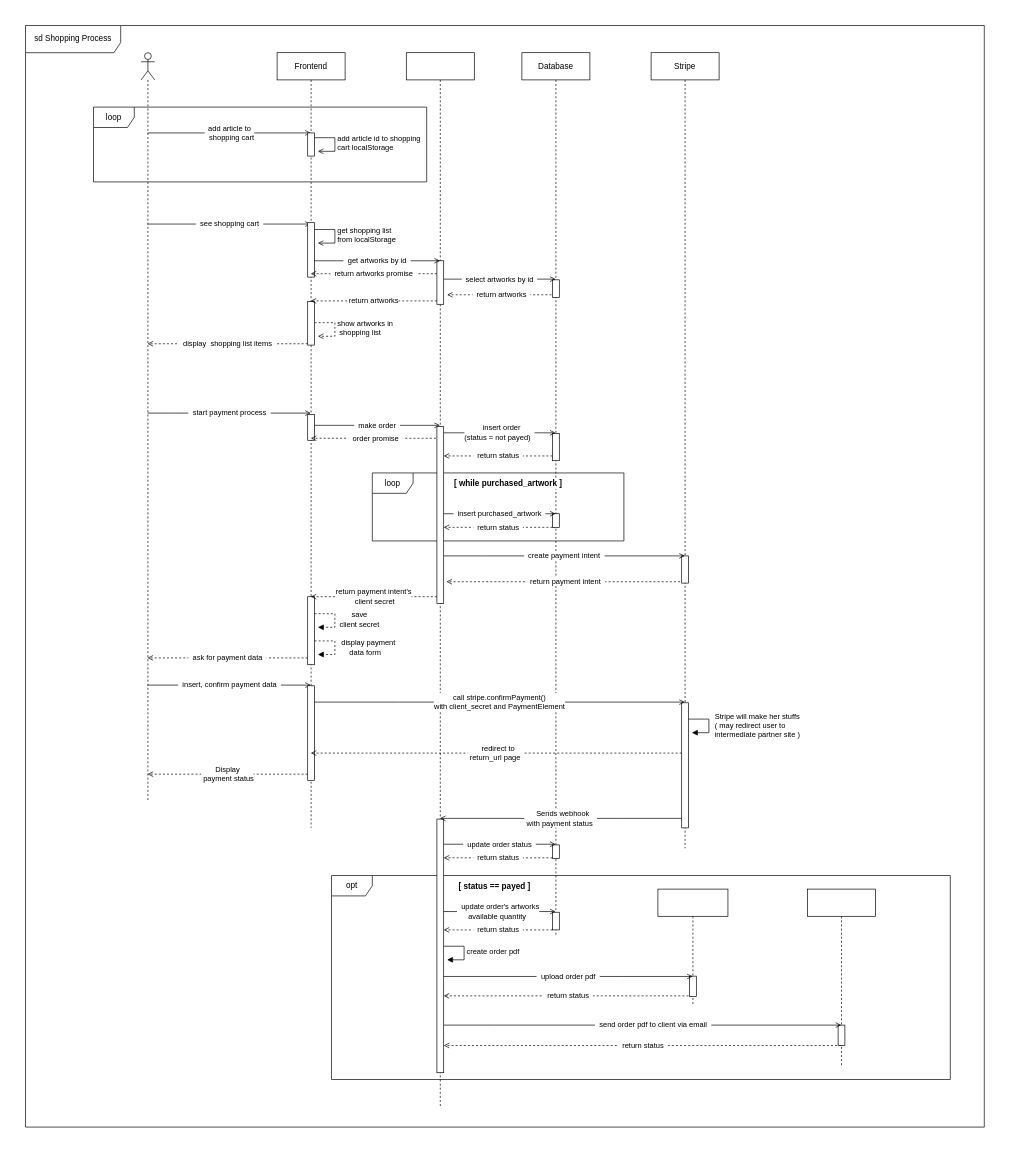
Image size: 1017x1159. Some labels were removed from this diagram. The shapes that lost their labels are listed below. From the top down, each one's box as (x1, y1, x2, y2) in pixels, then its label:
(140, 52, 155, 801): Client
(406, 52, 474, 1107): Backend
(657, 888, 728, 1005): Firebase Storage
(807, 888, 876, 1066): SMTP
